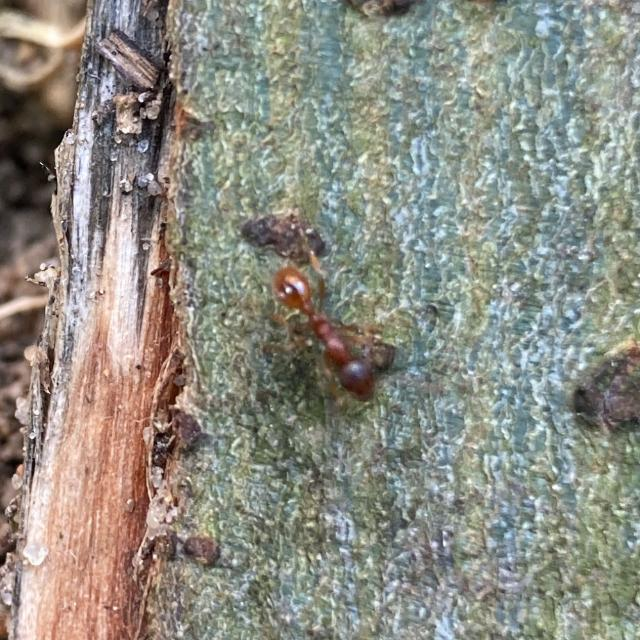Myrmica: (236, 248, 449, 434)
